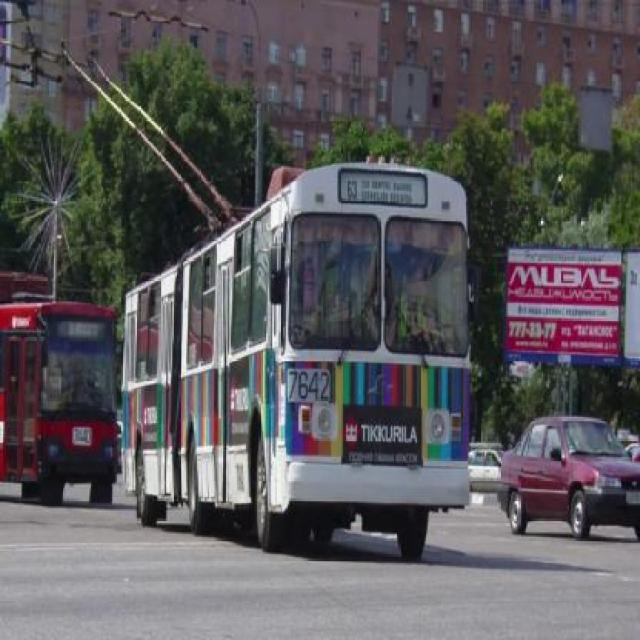bus: (122, 162, 470, 559), (0, 303, 113, 502)
car: (497, 416, 640, 532)
